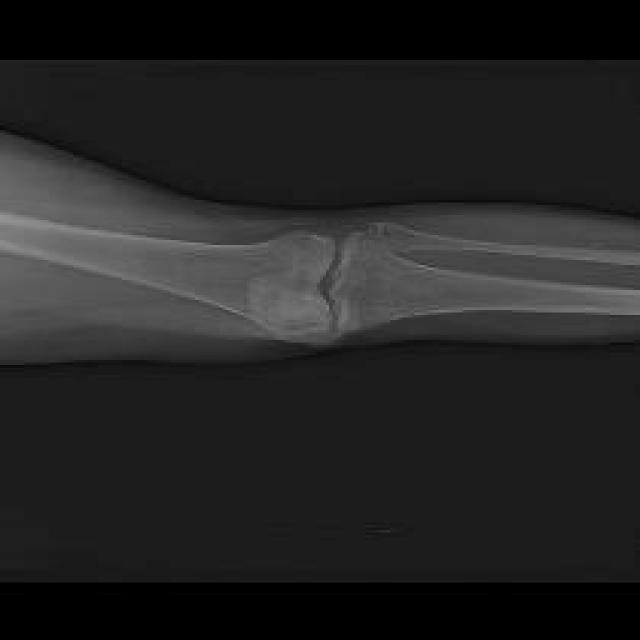normal: (0, 210, 334, 333), (334, 233, 640, 334), (370, 224, 640, 264)
